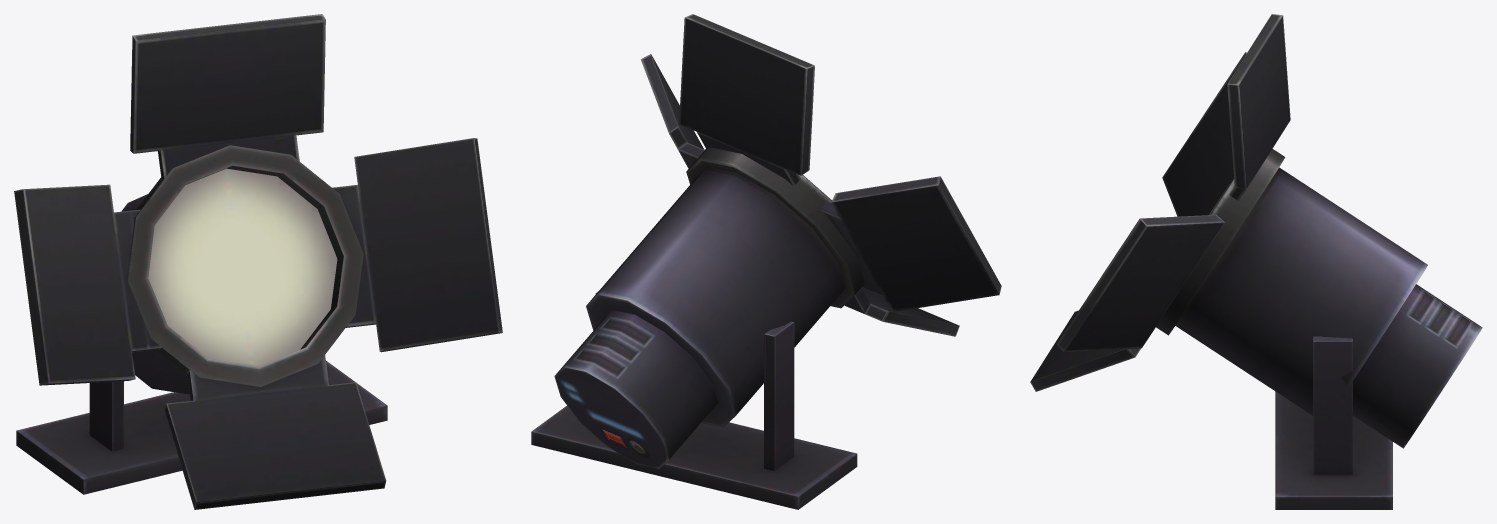
The model's file is furn_syp2017_deco_004.gltf.
The picture shows the model from 3 angles, left to right: view 1: azimuth 30°, elevation 25°; view 2: azimuth 150°, elevation 25°; view 3: azimuth 270°, elevation 25°; orthographic projection. The views are drawn at different scales.
Parts seen in each view (by area): view 1: syp2017_deco_004; view 2: syp2017_deco_004; view 3: syp2017_deco_004.
Part boxes in pixels (left/top/right/bottom): syp2017_deco_004: left=14, top=14, right=502, bottom=509; syp2017_deco_004: left=531, top=14, right=1001, bottom=509; syp2017_deco_004: left=1030, top=14, right=1482, bottom=509.
Size of the model in its own units: 0.3194 by 0.3194 by 0.338.
1 material, 1 textured.
